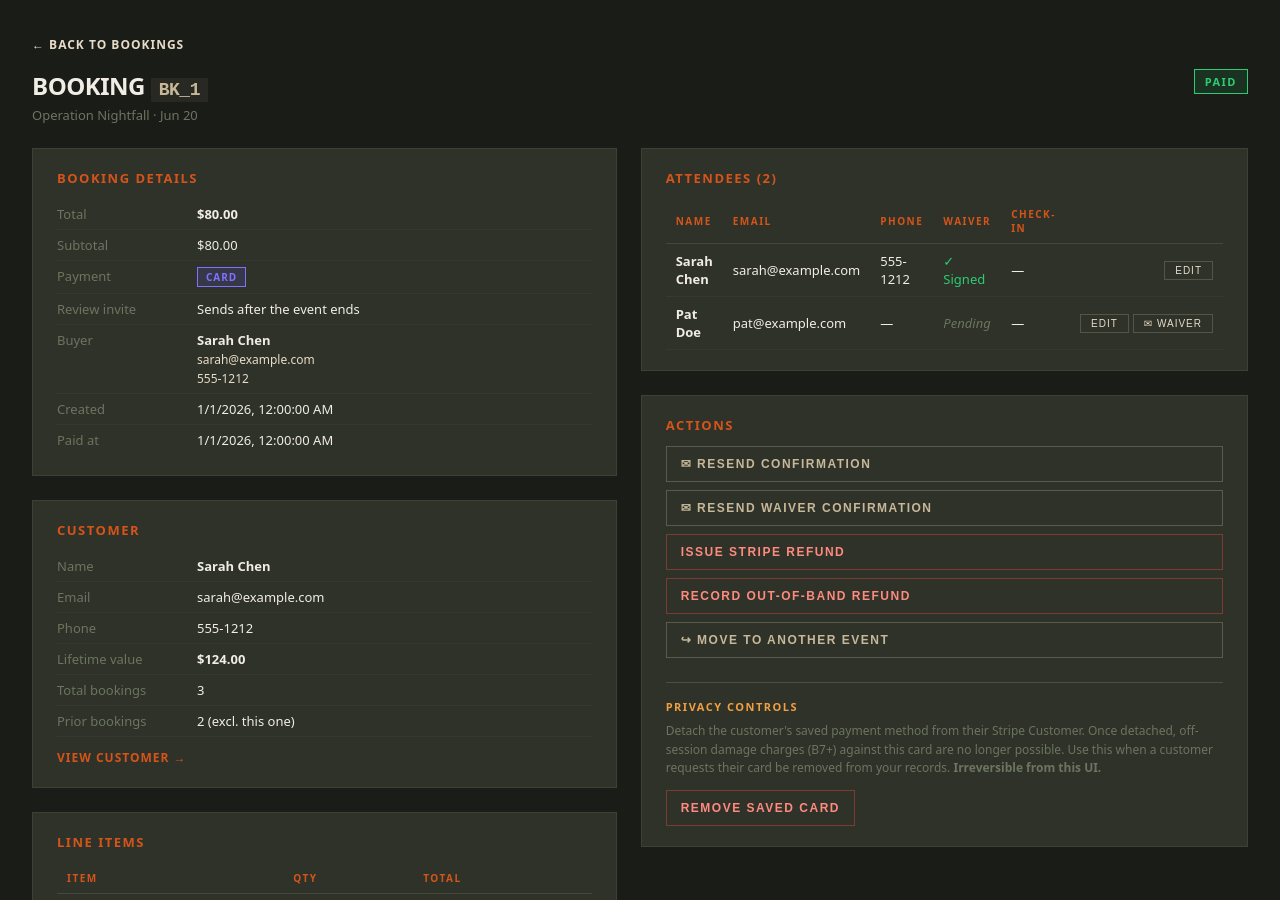
Test: AdminBookingsDetail › opens the move-to-another-event modal and lists target events
The image size is (1280, 900).
Step 1. Click the button "↪ Move to another event" → click(785, 640), box top-left (666, 622), bottom-right (1223, 658)
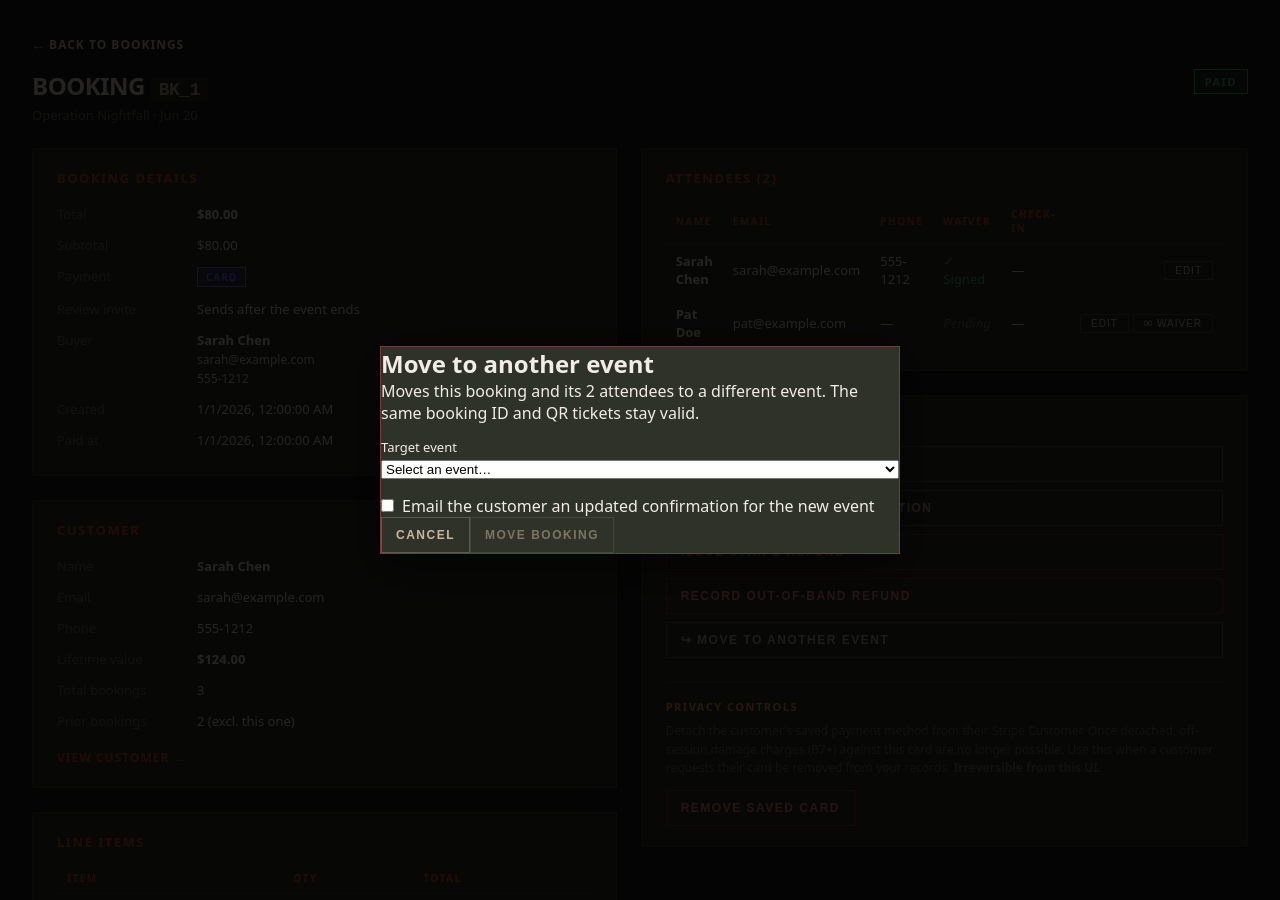
Expected: the heading "Move to another event" is shown, top-left (381, 347), bottom-right (654, 380)
